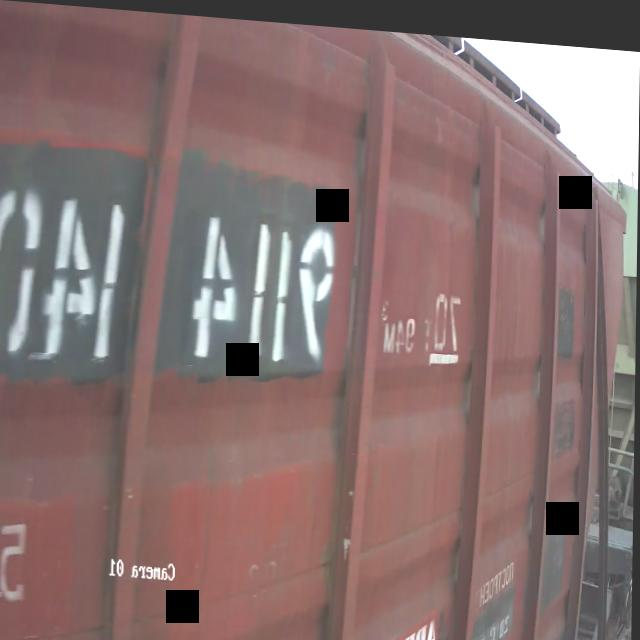hopper: (0, 0, 638, 640), (595, 146, 639, 526)
